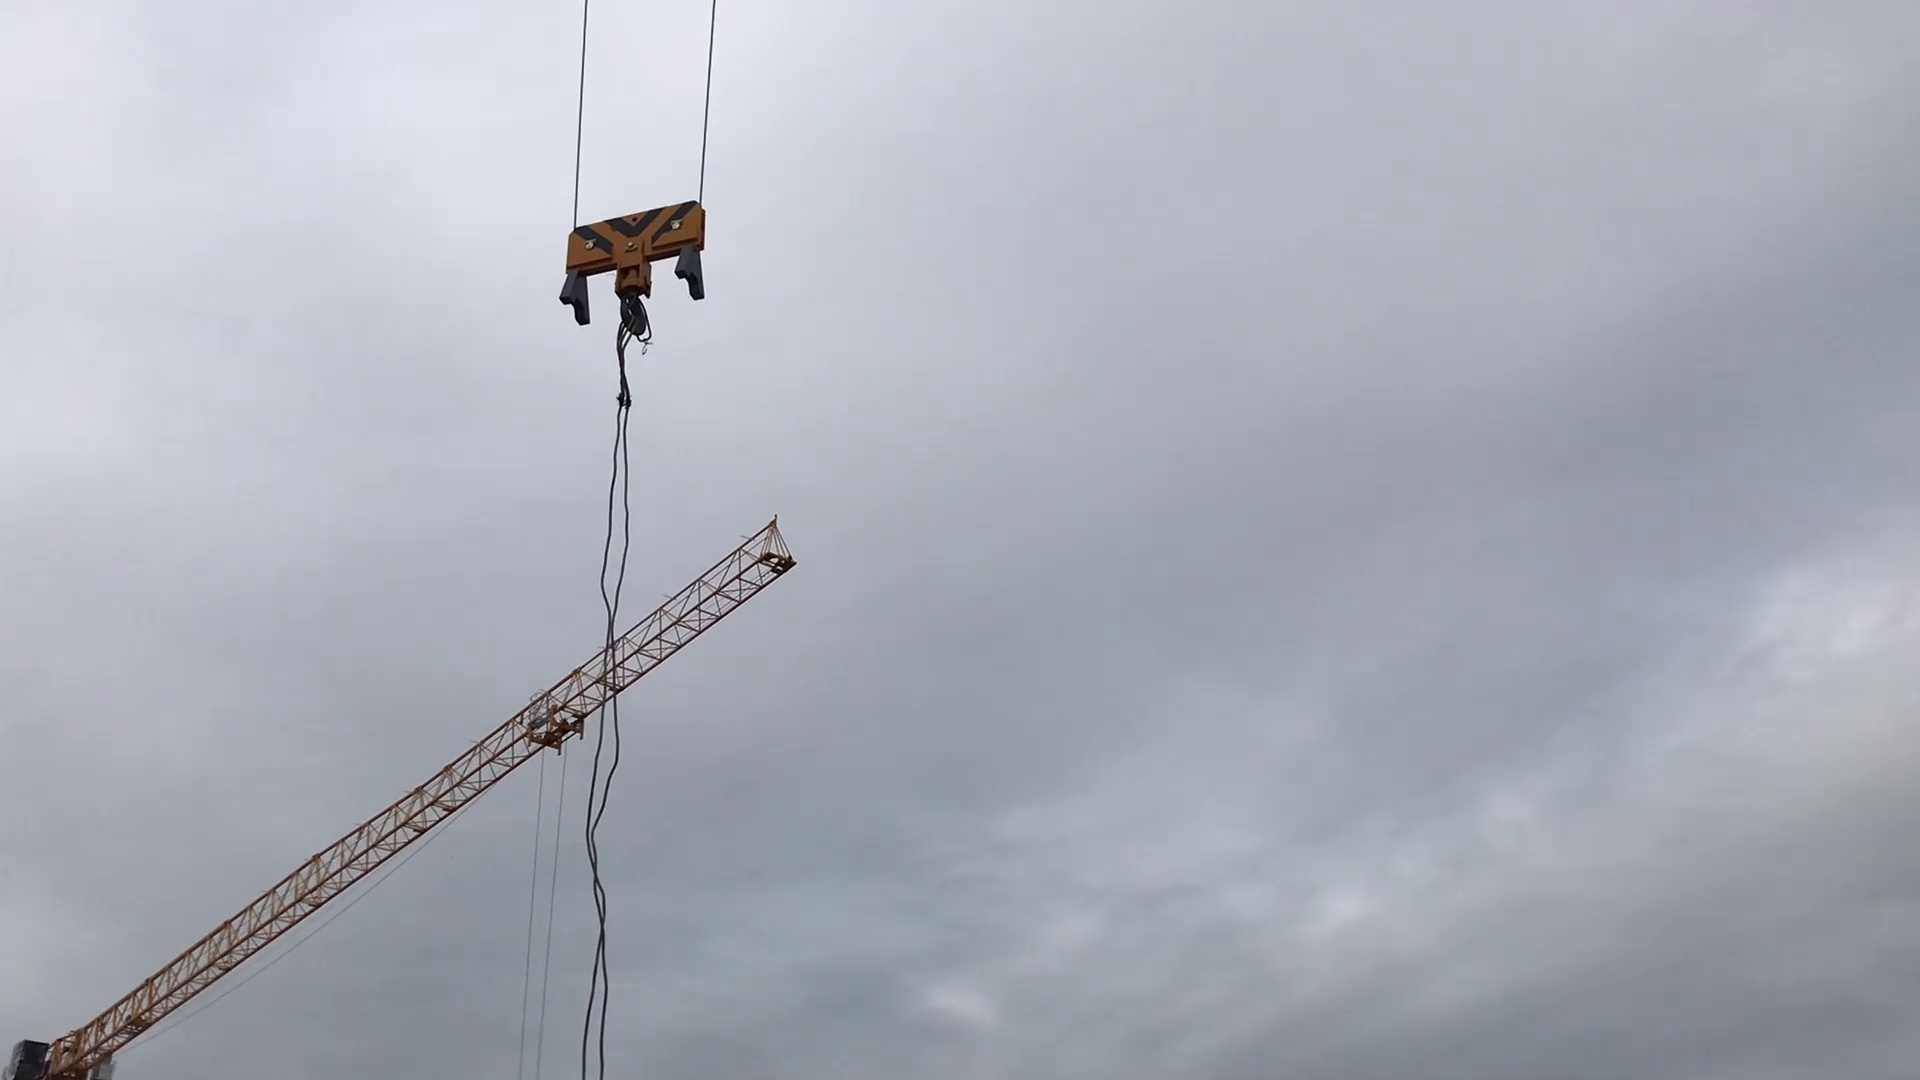hook: (556, 196, 713, 352)
